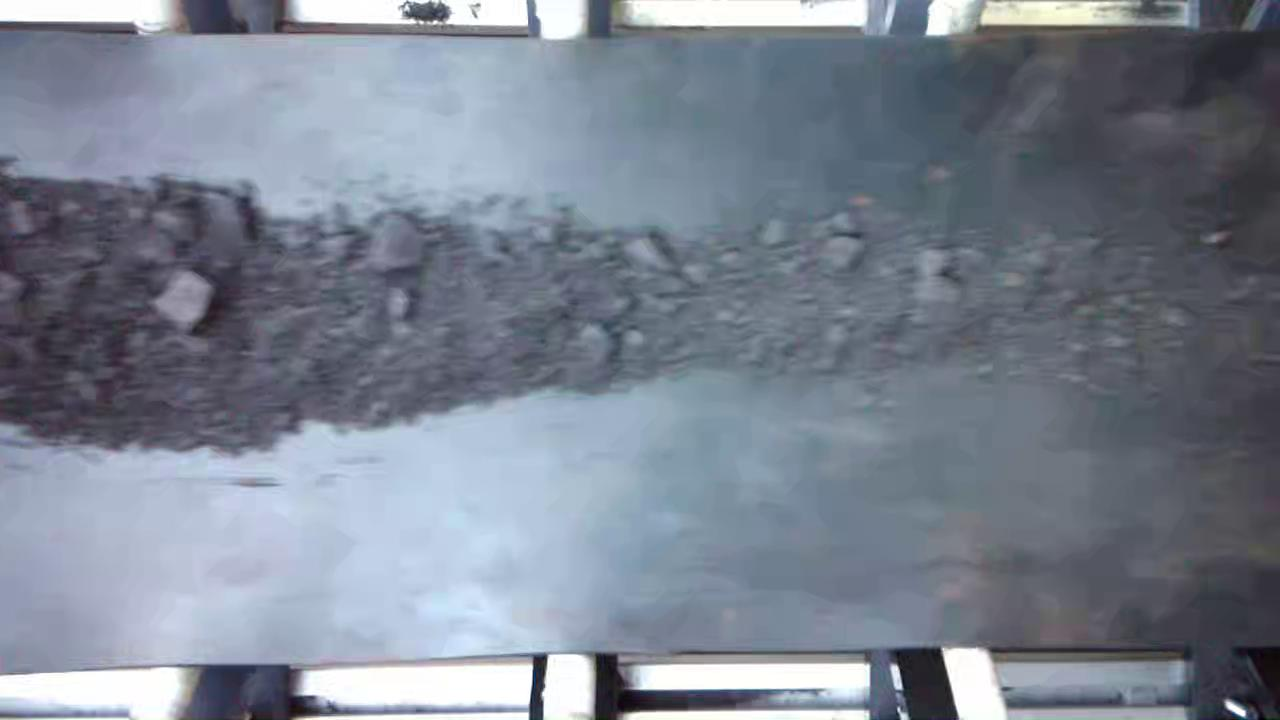conveyor: (1, 49, 1278, 634)
